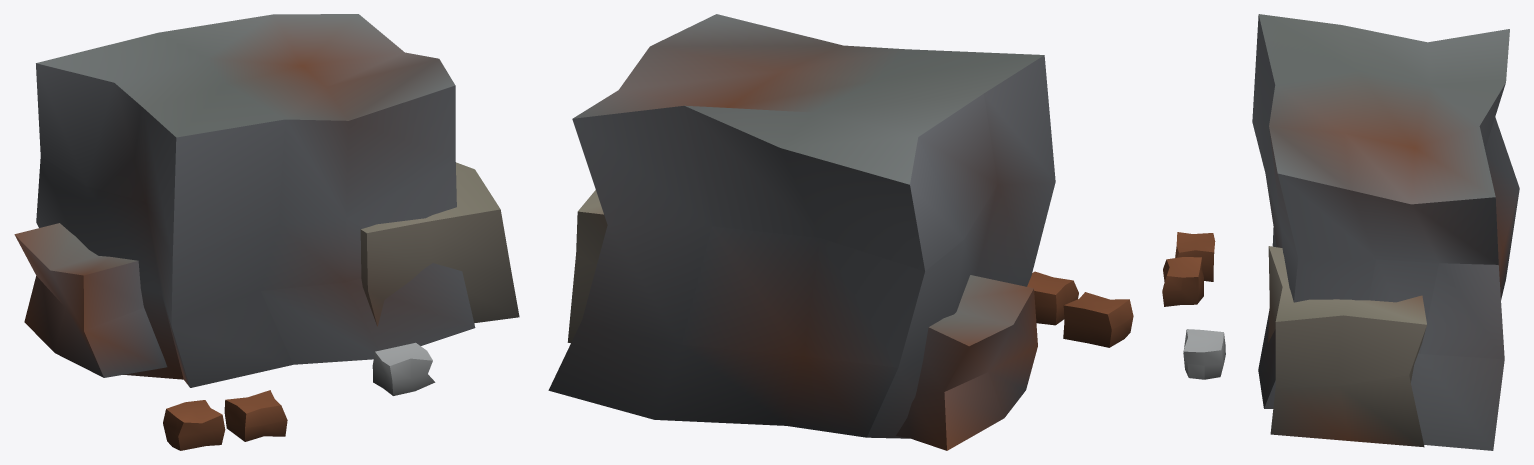
File: ph_env_ore_vein.glb
3 renders of one model, left to right at view 1: azimuth 30°, elevation 25°; view 2: azimuth 150°, elevation 25°; view 3: azimuth 270°, elevation 25°, orthographic. The views are drawn at different scales.
Visible parts, largest first — view 1: ph_env_ore_vein; view 2: ph_env_ore_vein; view 3: ph_env_ore_vein.
Part boxes in pixels (<box>): ph_env_ore_vein: <box>14,14,519,450</box>; ph_env_ore_vein: <box>548,14,1133,450</box>; ph_env_ore_vein: <box>1162,14,1519,450</box>.
Size of the model in its own units: 1.41 by 1.02 by 1.15.
